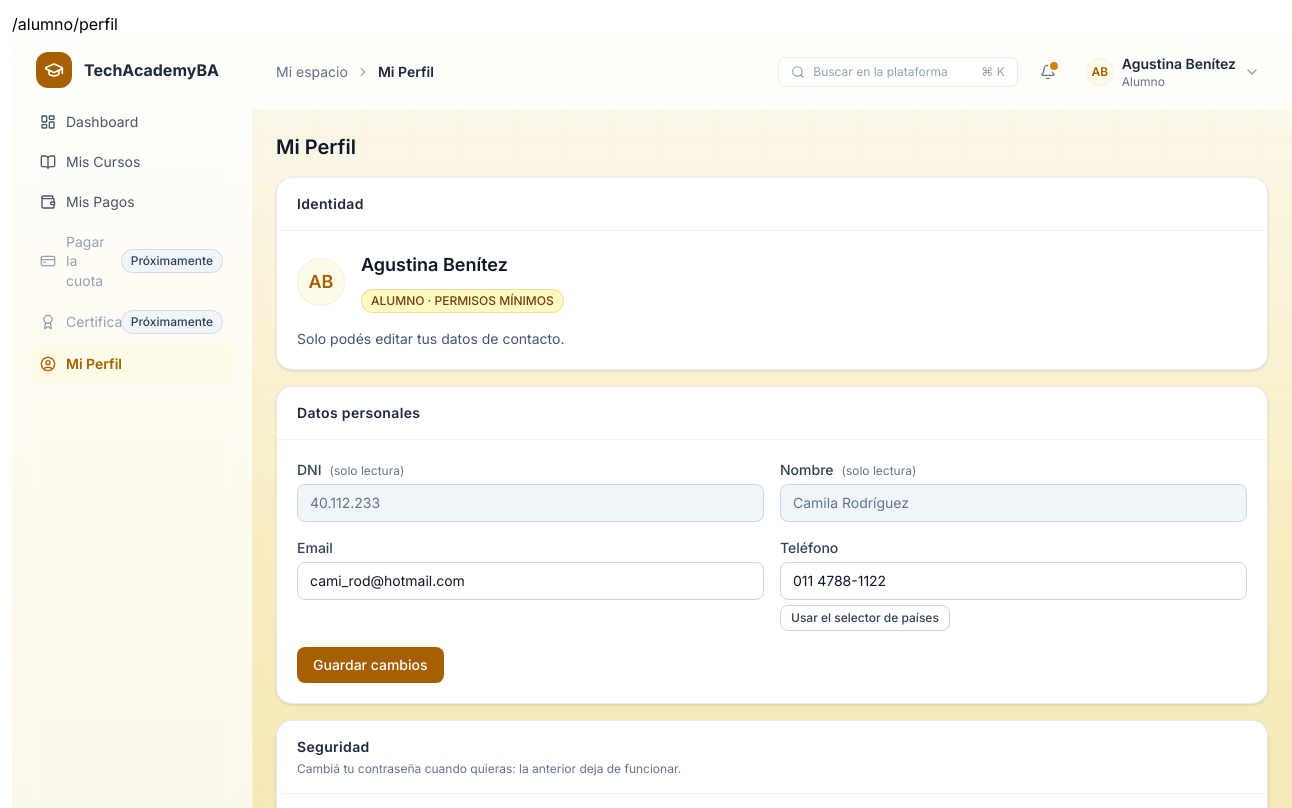
Test case: datos personales › deshabilita el botón mientras guarda
The image size is (1292, 808).
Expected: the heading "Mi Perfil" is shown, [276,135,356,159]
Expected: the field showing "cami_rod@hotmail.com" is shown, [297,562,764,600]
Clear the field labelled "Teléfono" at point(1014, 581), box [780,562,1247,600]
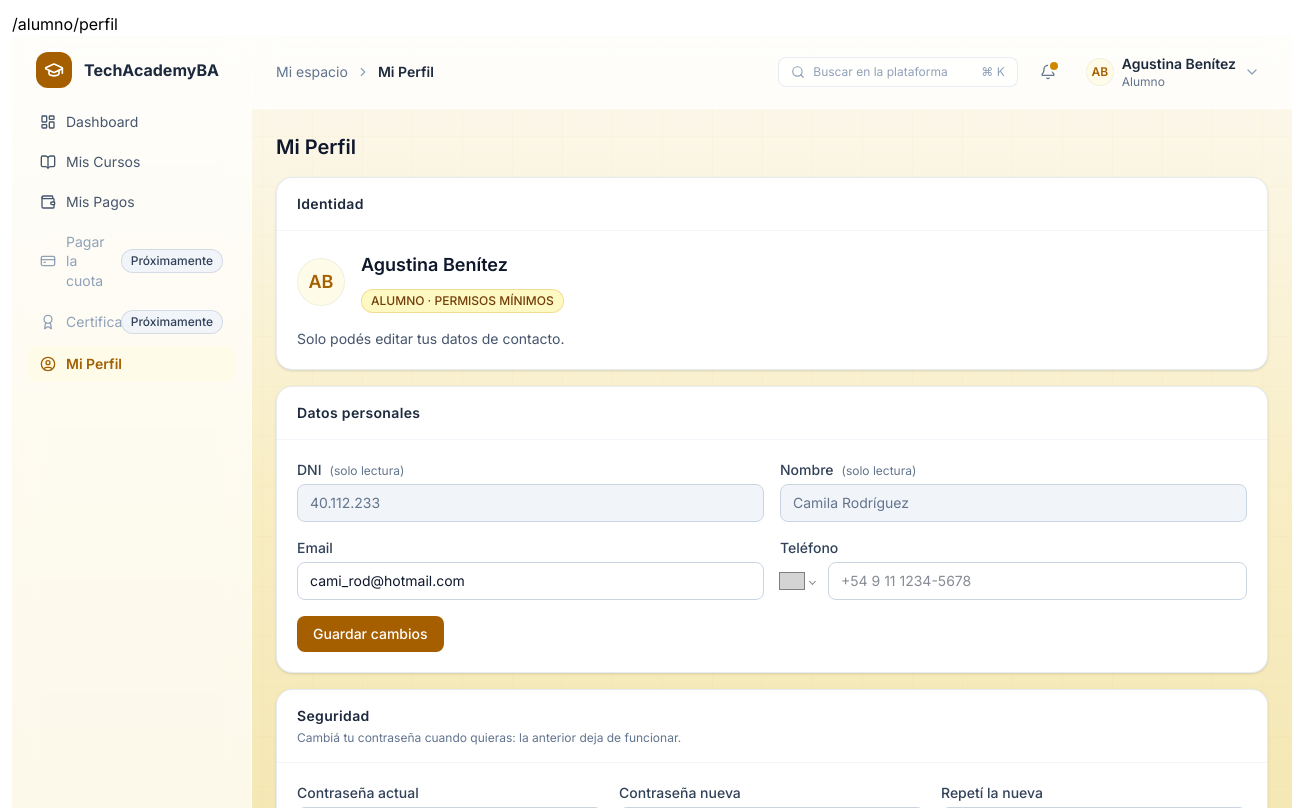
Click the button "Guardar cambios" at point(370, 634), box [297,616,444,652]
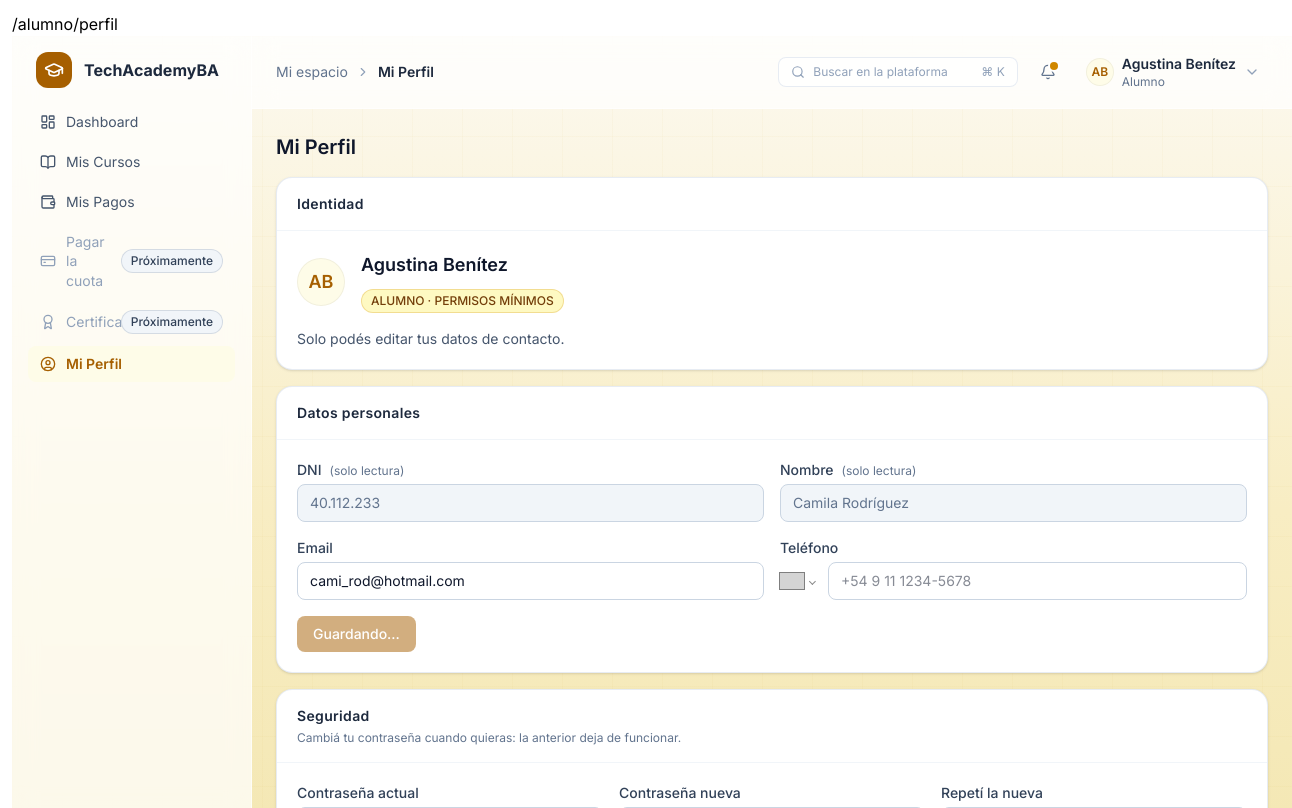
Expected: the button "Guardando…" is disabled, [297,616,416,652]
